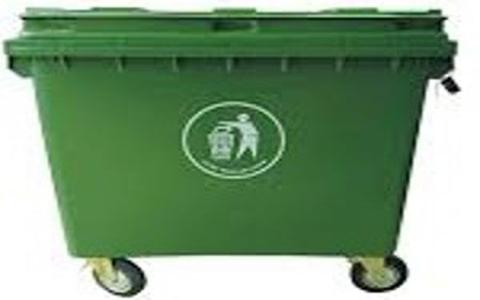Proper garbage: (2, 1, 472, 297)
